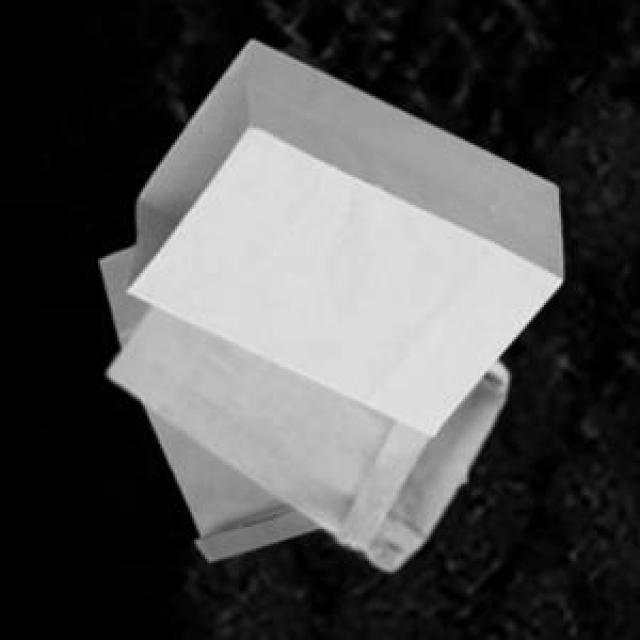paper: (122, 36, 559, 431), (105, 301, 501, 565), (96, 241, 320, 557)
